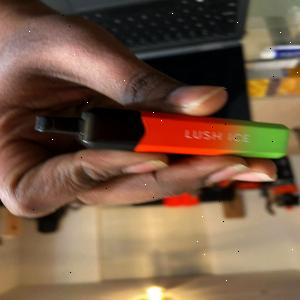Swift-E-Ciggirate: (28, 100, 292, 163)
